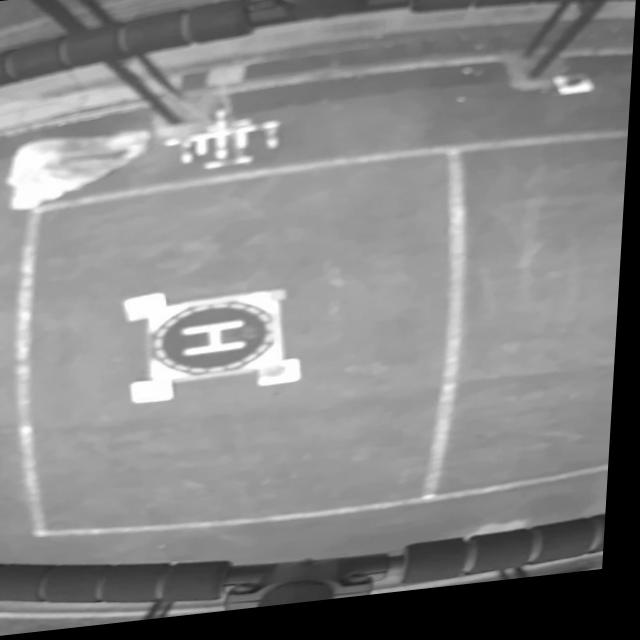Helipad: (186, 324, 253, 360)
